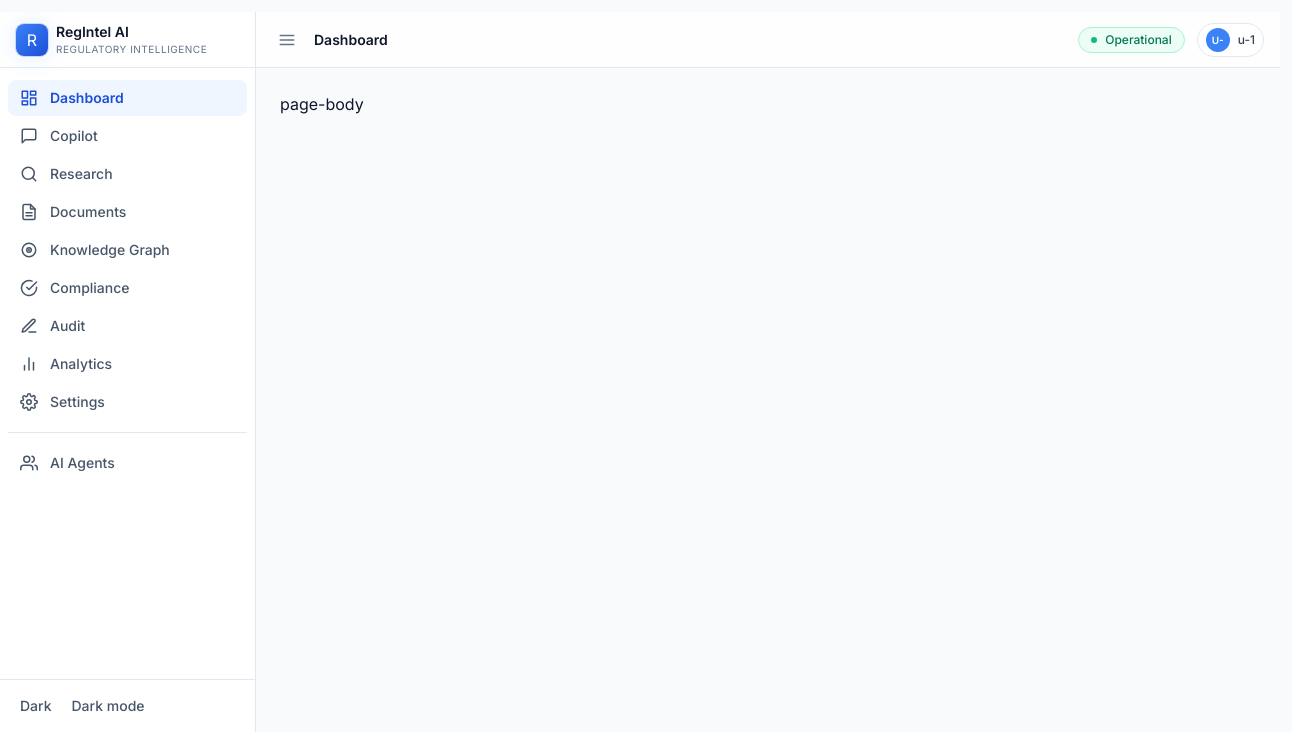
Scenario: account menu › 18. menu shows identity and only real actions
Expected: the text "page-body" is shown, [280,94,364,114]
Click the button named "Account menu for" at (1230, 40), box [1197,22,1264,56]
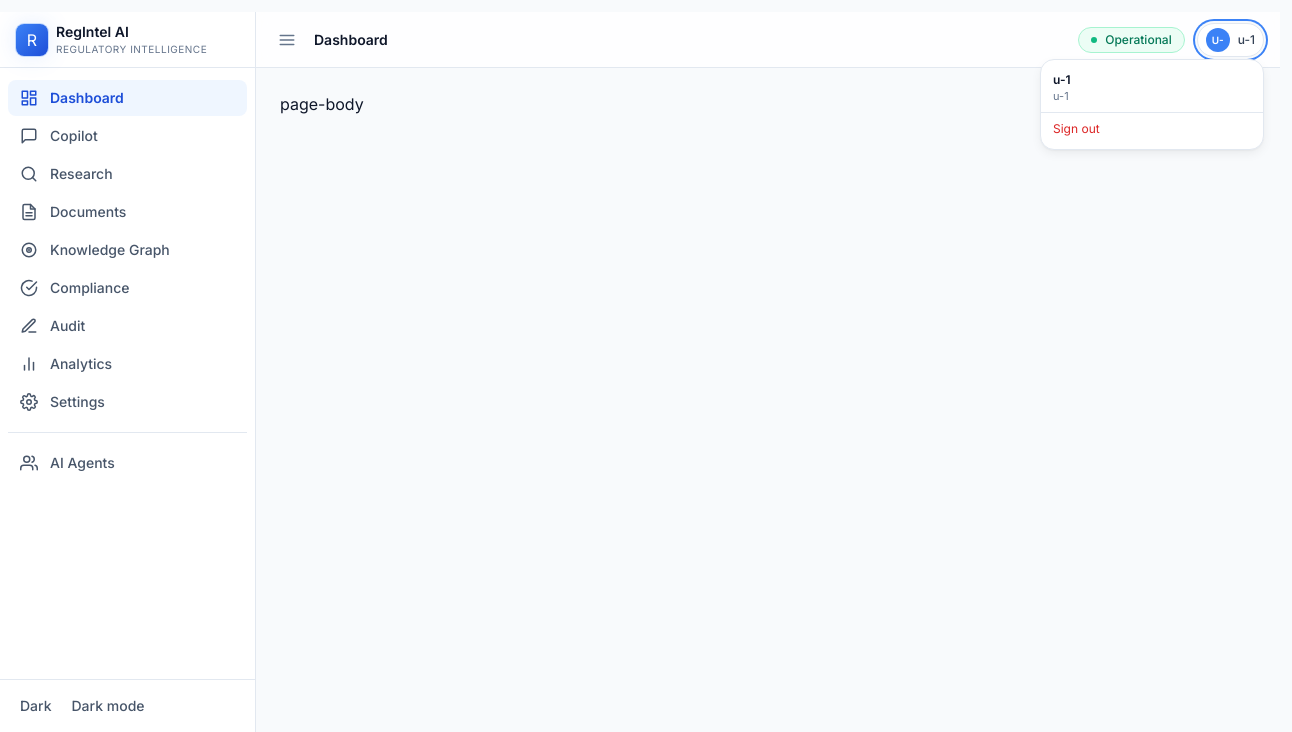
Expected: the menu item "Sign out" is shown, [1041,112,1263,144]
